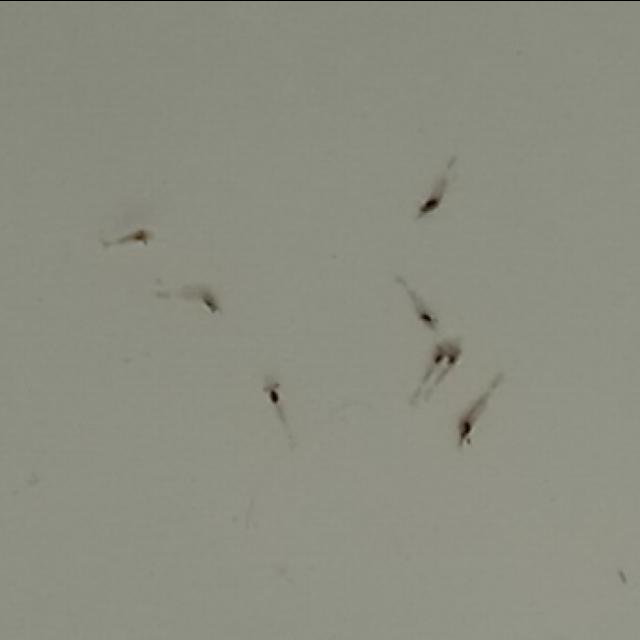shrimp-seed: (452, 408, 480, 448), (260, 372, 288, 406), (200, 292, 226, 320), (417, 192, 442, 218), (418, 306, 443, 331), (129, 223, 154, 247), (448, 344, 466, 368), (432, 340, 449, 362)
